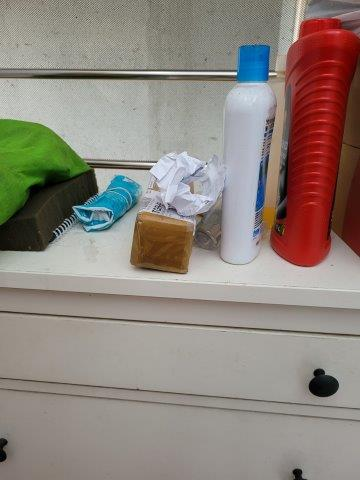kardus: (134, 216, 193, 273)
kertas: (149, 149, 226, 217)
